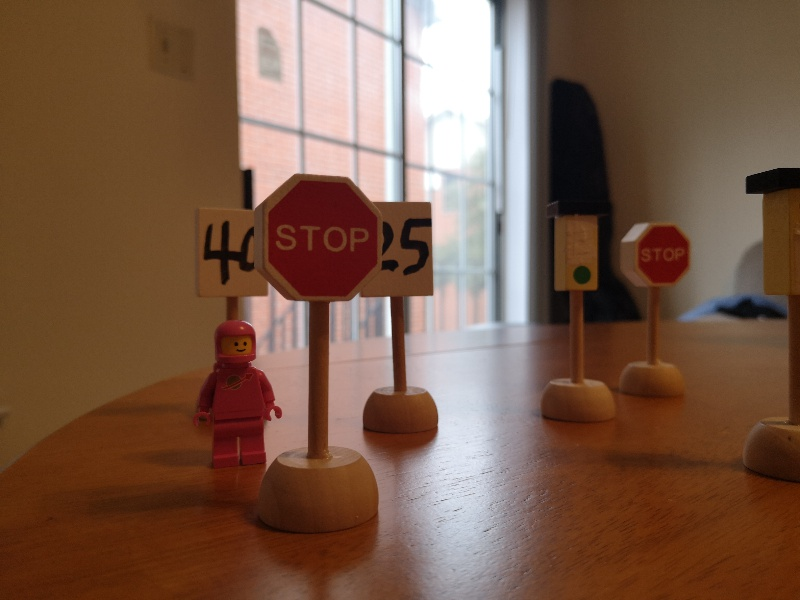Green Traffic Light: (546, 203, 606, 292)
Person: (195, 321, 283, 468)
Speed Limit 25: (367, 200, 436, 300)
Speed Limit 40: (196, 204, 270, 299)
Stop Sign: (258, 173, 382, 307), (619, 221, 693, 287)
